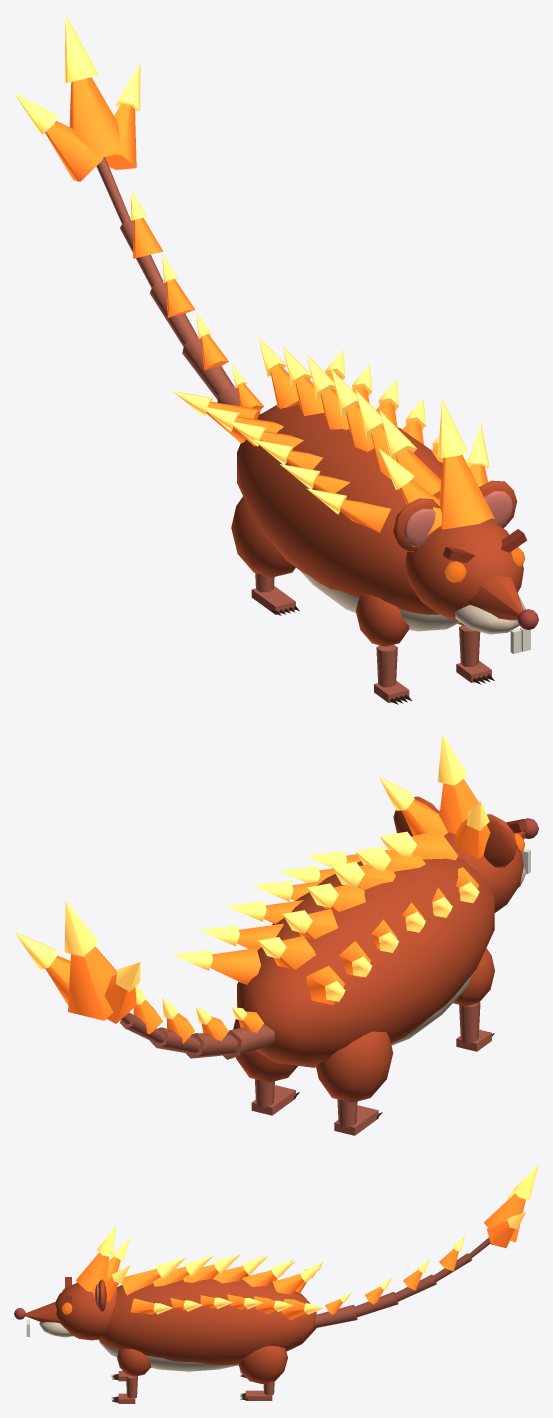
File: BO_SK_Enemy_FireRat_v003.glb
3 views of the same model, one above another, from view 1: azimuth 30°, elevation 25°; view 2: azimuth 150°, elevation 25°; view 3: azimuth 270°, elevation 25° (orthographic). The views are drawn at different scales.
Parts seen in each view (by area): view 1: body_000, body_038, body_101, body_052, body_080, body_065, body_105, body_039, body_001, body_103, body_102, body_091 (+10 smaller); view 2: body_000, body_080, body_101, body_038, body_052, body_034, body_050, body_072, body_102, body_065, body_054, body_002 (+30 smaller); view 3: body_000, body_038, body_072, body_001, body_101, body_058, body_052, body_088, body_002, body_091, body_103, body_039 (+12 smaller).
Boxes of the visible parts, x1,y1,x2,y2 form: body_000: (237,404,442,614); body_038: (405,519,523,620); body_101: (69,77,121,158); body_052: (439,454,493,529); body_080: (231,496,295,577); body_065: (356,594,409,646); body_105: (45,121,103,181); body_039: (468,576,523,620); body_001: (299,570,460,631); body_103: (105,103,136,169); body_102: (64,14,98,82); body_091: (182,337,234,399); body_000: (237,857,494,1067); body_080: (316,1031,393,1102); body_101: (68,946,117,1020); body_038: (444,832,523,912); body_052: (439,779,478,834); body_034: (210,948,260,984); body_050: (483,814,516,867); body_072: (233,1019,297,1082); body_102: (64,901,98,956); body_065: (453,948,494,1006); body_054: (401,799,447,835); body_002: (411,830,457,860); body_000: (98,1274,316,1365); body_038: (55,1282,117,1340); body_072: (238,1346,287,1383); body_001: (99,1342,238,1371); body_101: (484,1193,525,1242); body_058: (117,1348,150,1376); body_052: (76,1252,108,1292); body_088: (315,1305,357,1327); body_002: (121,1269,160,1295); body_091: (354,1292,398,1317); body_103: (487,1221,514,1248); body_039: (25,1302,60,1323).
Size of the model in its own units: 0.3313 by 0.7452 by 1.57.
